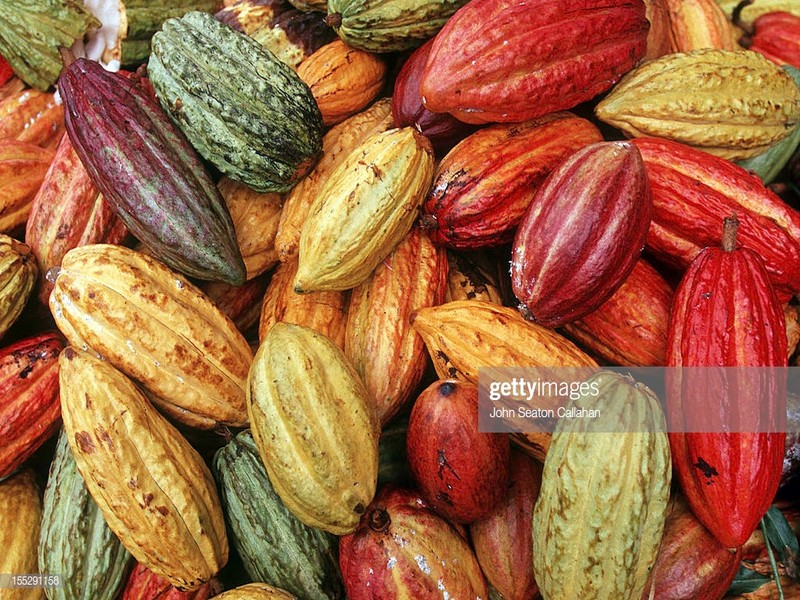Cacaopod: (51, 40, 249, 289), (53, 345, 230, 587), (666, 217, 788, 546), (49, 240, 258, 426), (245, 322, 383, 536), (510, 138, 655, 332), (291, 129, 433, 294)
